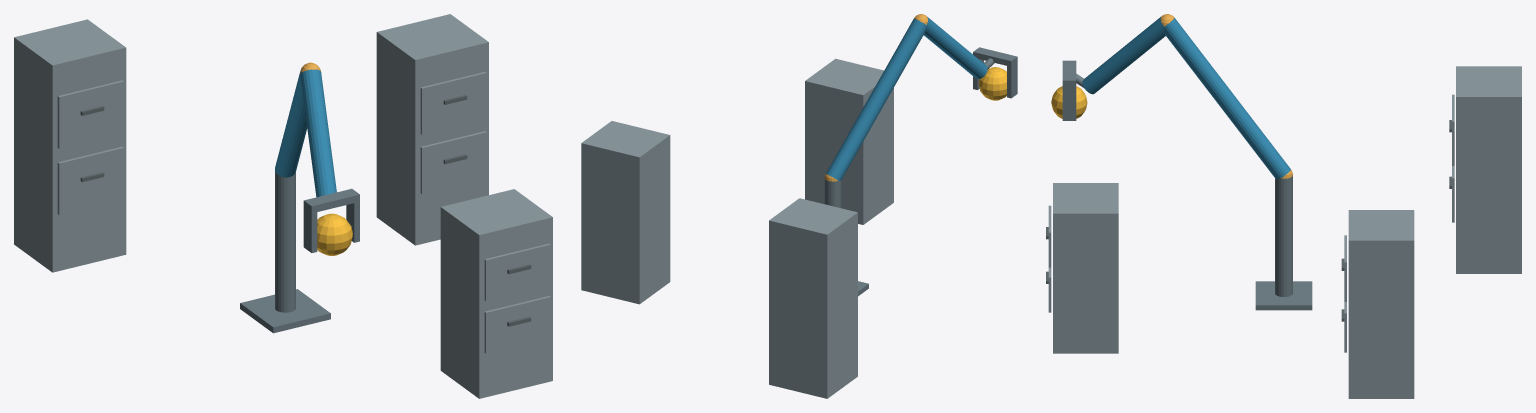
3 views of the same model, side by side, from view 1: azimuth 30°, elevation 25°; view 2: azimuth 150°, elevation 25°; view 3: azimuth 270°, elevation 25° (orthographic). The views are drawn at different scales.
Visible parts, largest first — view 1: cabinet_3 body, cabinet_2 body, cabinet_1 body, cabinet_3 drawer front, cabinet_3 drawer front.001, cabinet_2 drawer front.001, cabinet_2 drawer front, fixed post, cabinet_1 drawer front, cabinet_1 drawer front.001, moving link 2, pedestal (+4 smaller); view 2: cabinet_3 body, cabinet_2 body, cabinet_1 body, moving link 1, moving link 2, ball ball_1, gripper bridge, fixed post; view 3: cabinet_3 body, cabinet_2 body, cabinet_1 body, moving link 1, fixed post, moving link 2, pedestal, ball ball_1, gripper finger 1.
Boxes of the visible parts, x1,y1,x2,y2 form: cabinet_3 body: (14,19,126,272); cabinet_2 body: (376,14,488,245); cabinet_1 body: (440,189,552,398); cabinet_3 drawer front: (57,146,124,215); cabinet_3 drawer front.001: (57,80,124,148); cabinet_2 drawer front.001: (420,71,486,134); cabinet_2 drawer front: (420,131,486,194); fixed post: (275,171,295,312); cabinet_1 drawer front: (484,296,550,353); cabinet_1 drawer front.001: (484,243,550,301); moving link 2: (300,69,336,197); pedestal: (240,289,330,333); cabinet_3 body: (769,198,857,398); cabinet_2 body: (581,121,670,304); cabinet_1 body: (805,58,893,224); moving link 1: (826,18,926,180); moving link 2: (924,17,987,78); ball ball_1: (978,67,1006,100); gripper bridge: (973,47,1017,66); fixed post: (824,179,841,207); cabinet_3 body: (1456,66,1521,273); cabinet_2 body: (1348,210,1414,398); cabinet_1 body: (1053,183,1118,353); moving link 1: (1164,17,1290,178); fixed post: (1275,176,1292,296); moving link 2: (1082,17,1165,94); pedestal: (1255,281,1312,310); ball ball_1: (1051,86,1087,118); gripper finger 1: (1062,87,1076,120).
Size of the model in its own units: 1.62 by 1.29 by 2.1.
